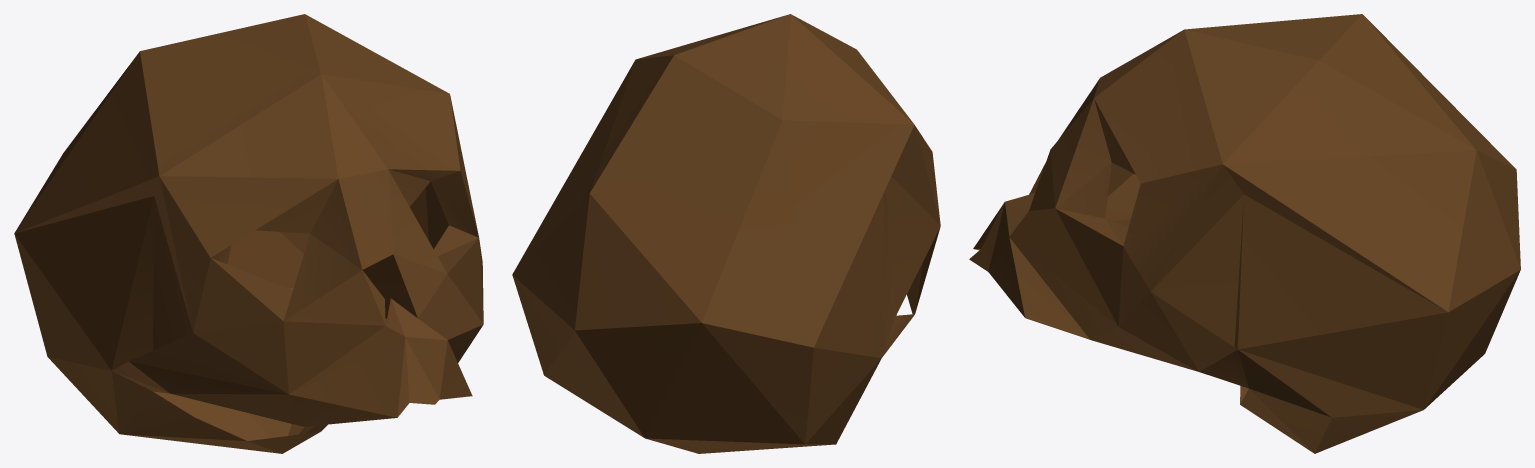
The model's file is dajar-scull.glb.
3 views of the same model, side by side, from view 1: azimuth 30°, elevation 25°; view 2: azimuth 150°, elevation 25°; view 3: azimuth 270°, elevation 25° (orthographic). The views are drawn at different scales.
Parts seen in each view (by area): view 1: pCube6; view 2: pCube6; view 3: pCube6.
Boxes of the visible parts, <box> form: pCube6: <box>14,14,483,453</box>; pCube6: <box>512,14,940,453</box>; pCube6: <box>969,14,1520,453</box>.
Size of the model in its own units: 7.62 by 9.67 by 11.78.
